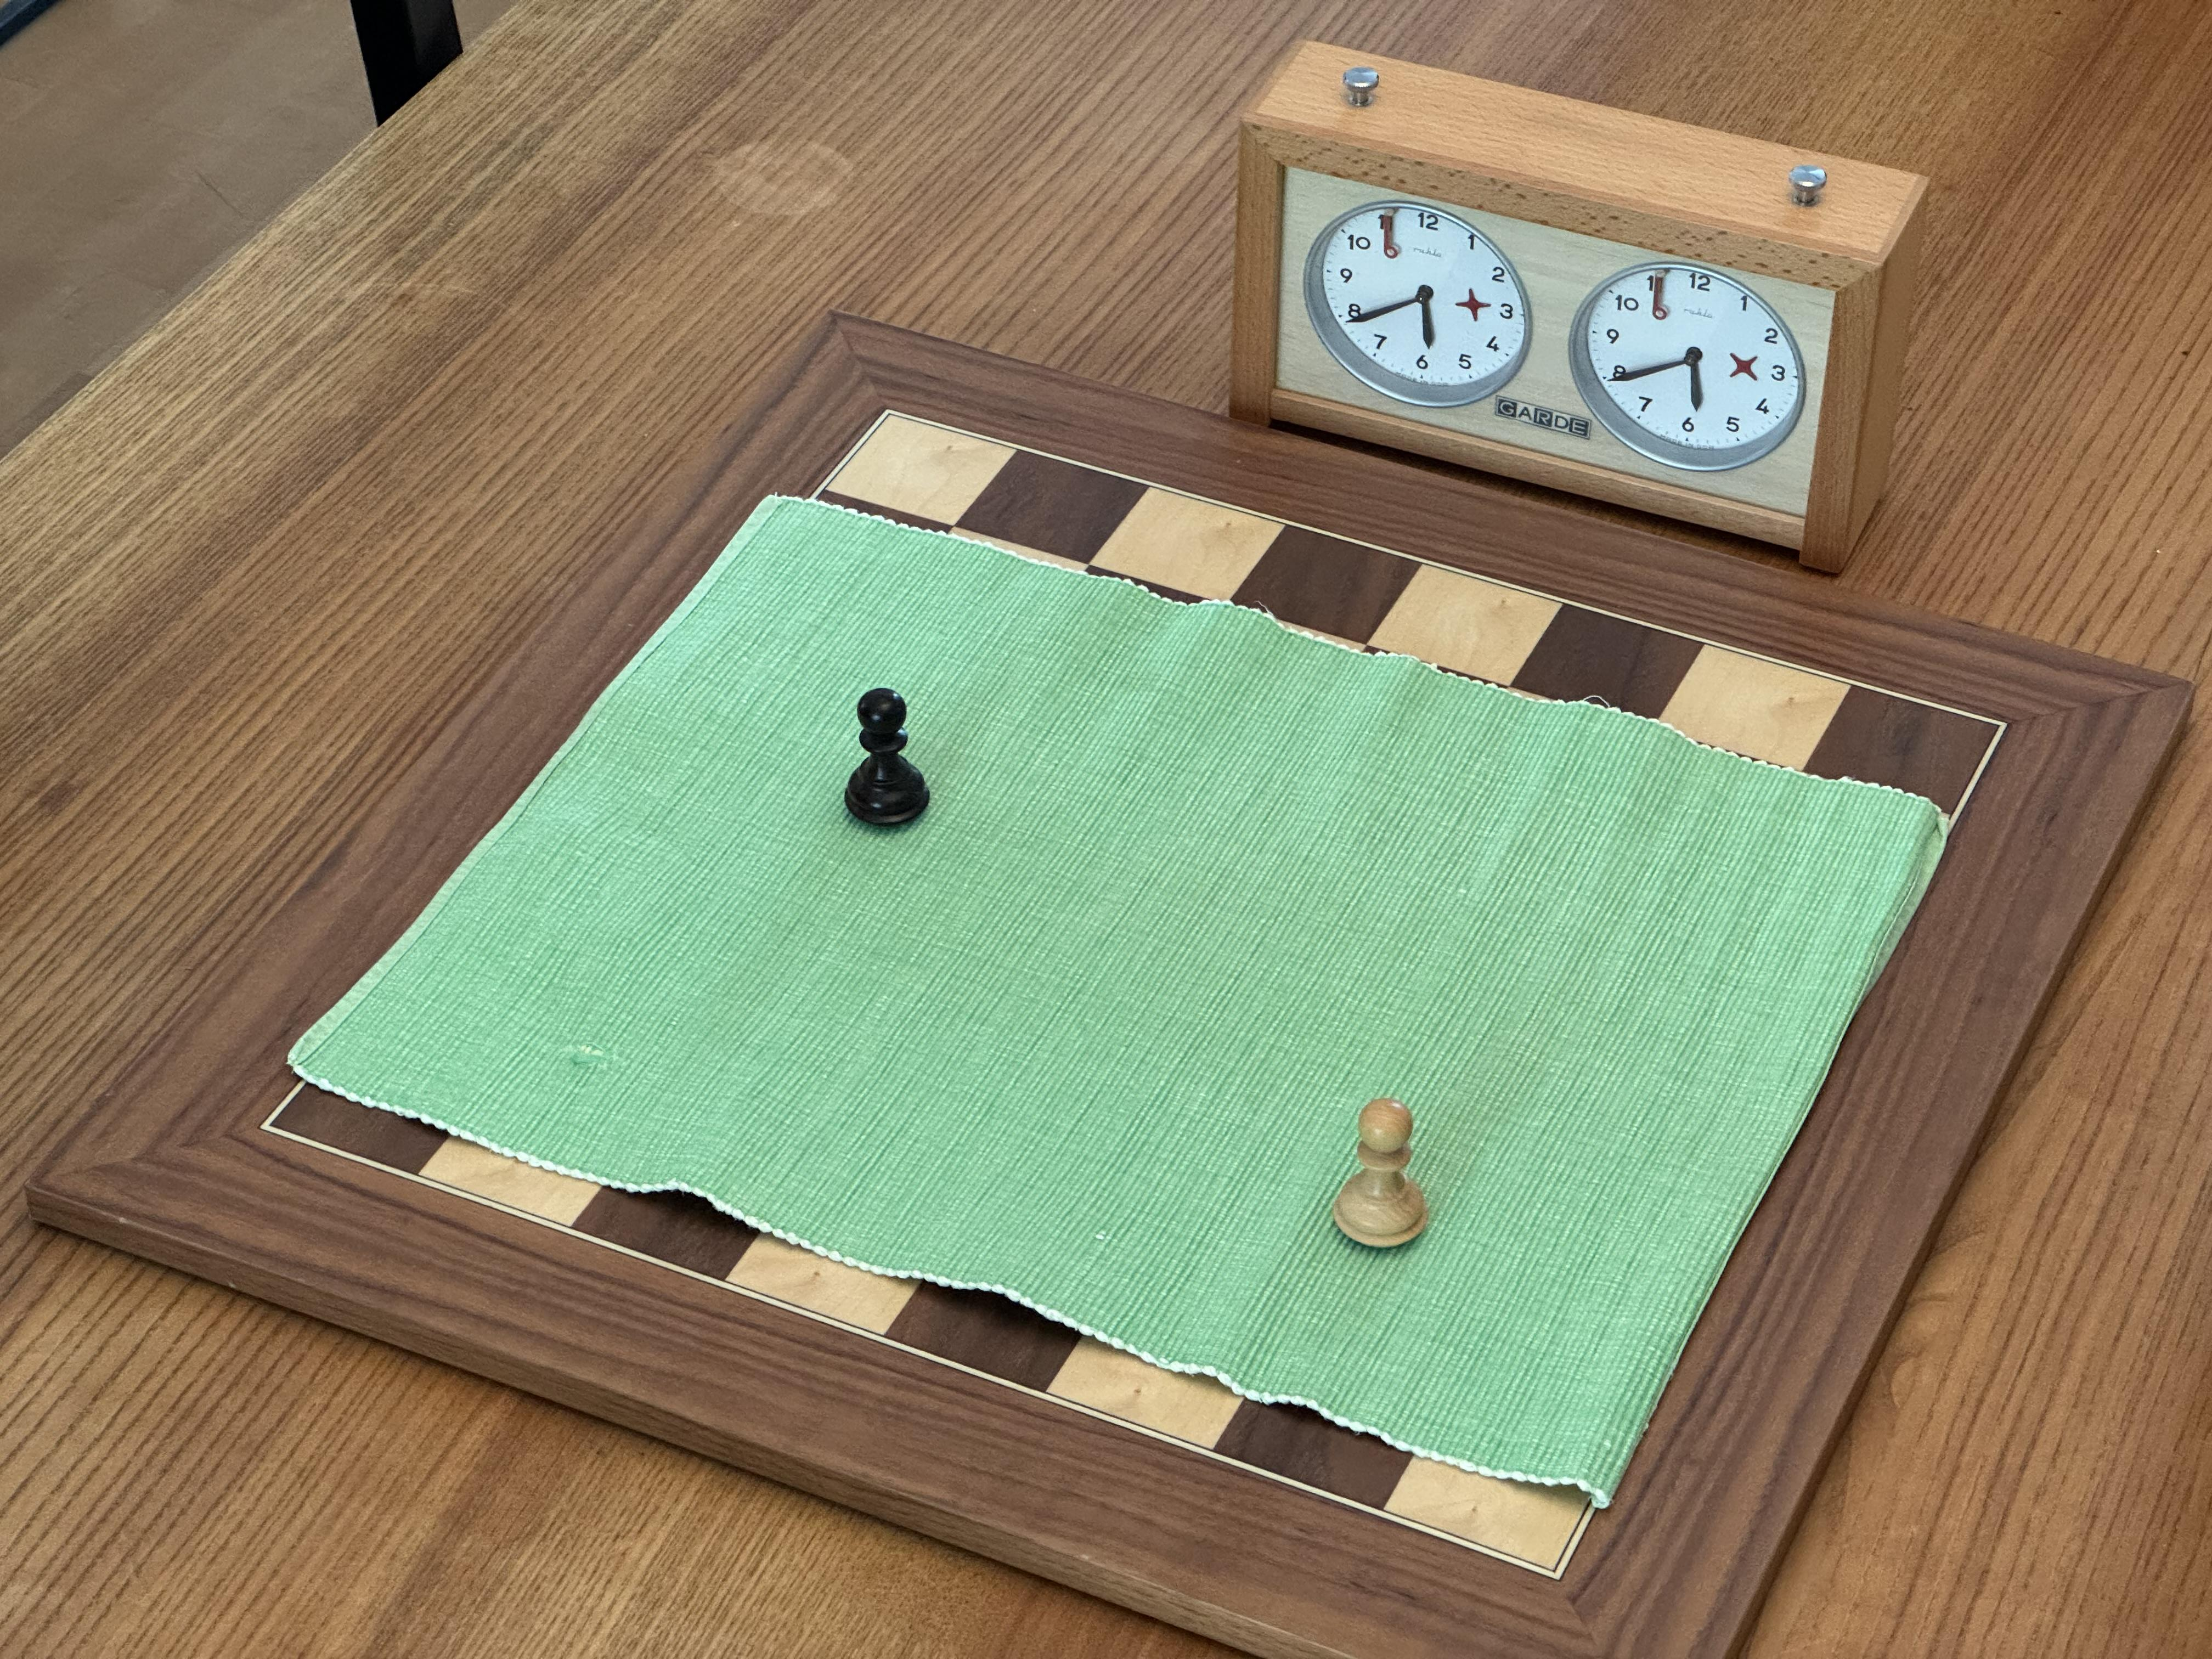Black Pawn: (838, 680, 935, 836)
White Pawn: (1325, 1091, 1432, 1258)
